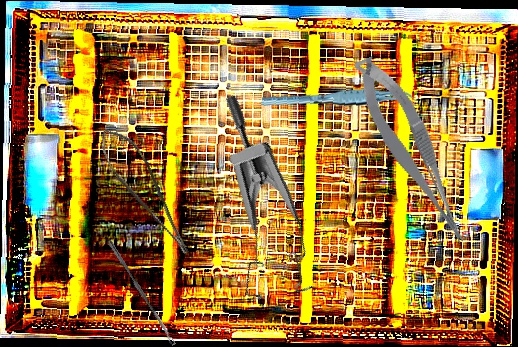Micro Scissor: (348, 47, 474, 256), (92, 119, 194, 267)
Speculum: (150, 92, 349, 321)
Surgical Spoon: (106, 238, 176, 347)
Tissue Forceps: (261, 78, 417, 120)
